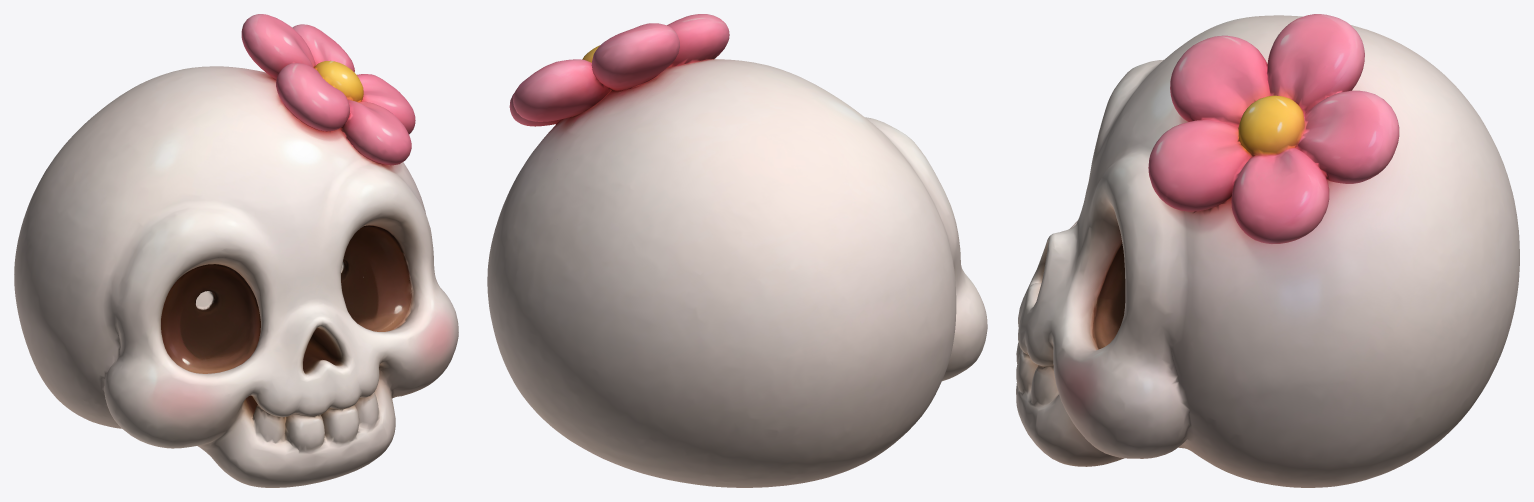
The model's file is skull.glb.
The picture shows the model from 3 angles, left to right: view 1: azimuth 30°, elevation 25°; view 2: azimuth 150°, elevation 25°; view 3: azimuth 270°, elevation 25°; orthographic projection. The views are drawn at different scales.
Parts seen in each view (by area): view 1: tripo_node_aaf95178-088d-4857-908d-a76d1402ac79; view 2: tripo_node_aaf95178-088d-4857-908d-a76d1402ac79; view 3: tripo_node_aaf95178-088d-4857-908d-a76d1402ac79.
Part boxes in pixels (x1,y1,x2,y2): tripo_node_aaf95178-088d-4857-908d-a76d1402ac79: [14, 14, 458, 487]; tripo_node_aaf95178-088d-4857-908d-a76d1402ac79: [487, 14, 987, 487]; tripo_node_aaf95178-088d-4857-908d-a76d1402ac79: [1016, 14, 1519, 487].
Size of the model in its own units: 1 by 0.9576 by 0.9677.
Materials: 1 (1 with a texture image).
